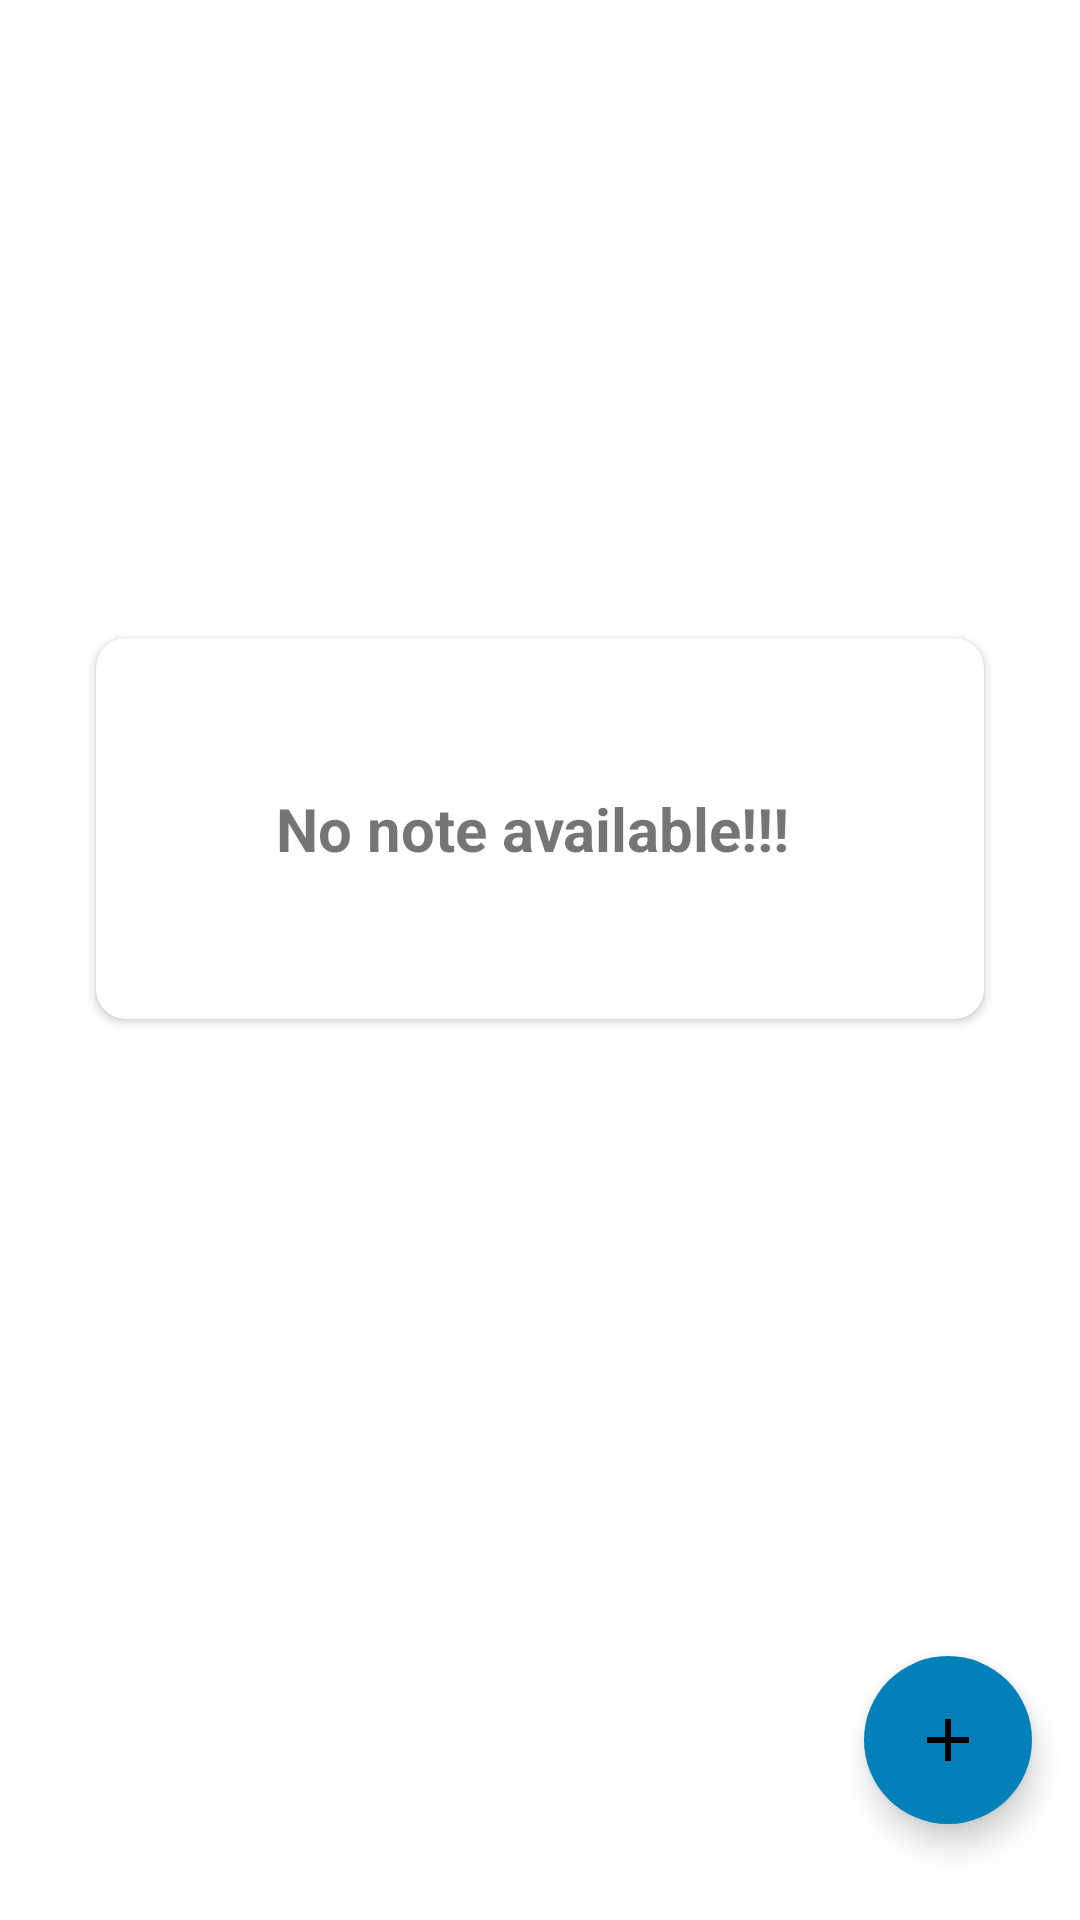

Icons on this 1080×1920 Android screen, each with its box as box(x1, y1, x2, y2):
add: box(864, 1656, 1032, 1824)
